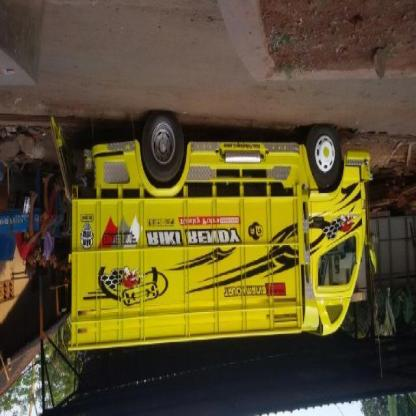truck: (68, 119, 378, 351)
